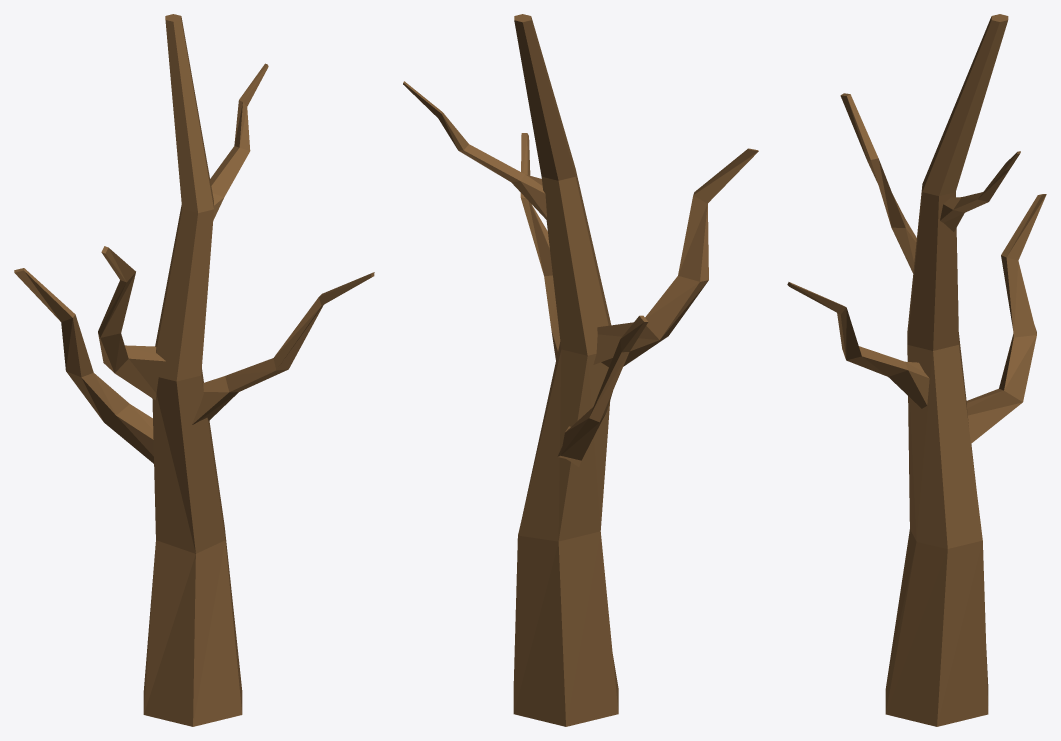
The model's file is Tree_1_4.FBX.
3 views of the same model, side by side, from view 1: azimuth 30°, elevation 25°; view 2: azimuth 150°, elevation 25°; view 3: azimuth 270°, elevation 25° (orthographic). The views are drawn at different scales.
Visible parts, largest first — view 1: Tree_1_4; view 2: Tree_1_4; view 3: Tree_1_4.
Boxes of the visible parts, x1,y1,x2,y2 form: Tree_1_4: (14,14,374,726); Tree_1_4: (403,14,758,726); Tree_1_4: (787,14,1046,726).
Bounding box in the file's own units: 56.84 × 143 × 48.92.
Materials: 1 (1 with a texture image).
